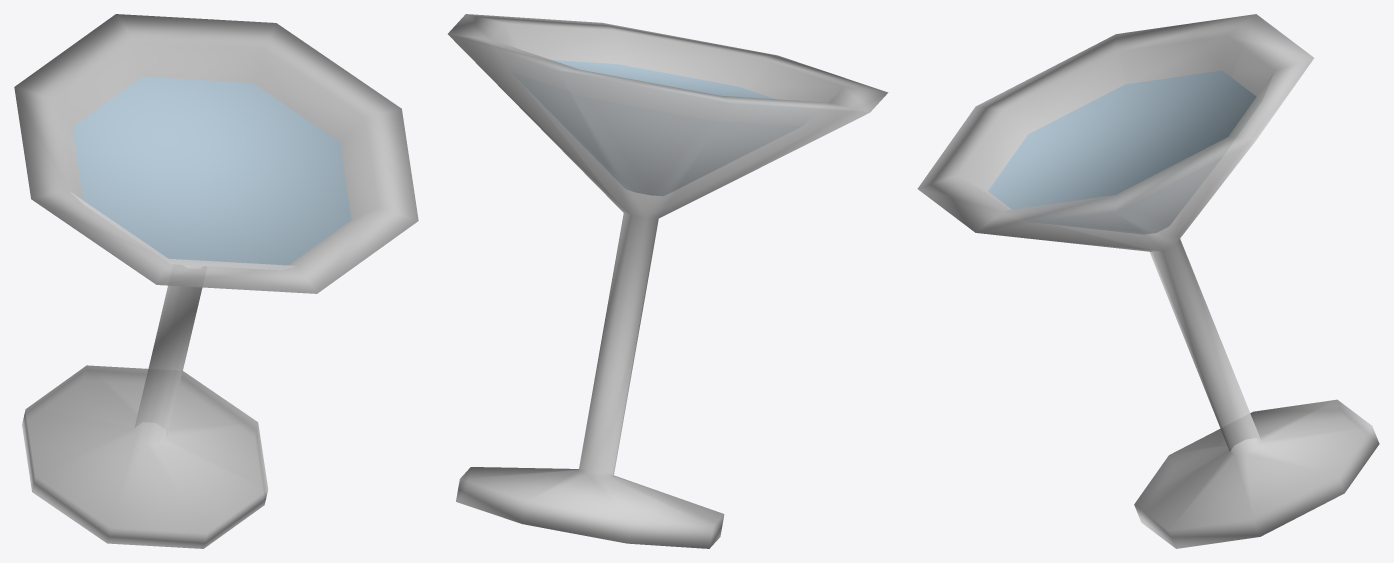
The model's file is drink2.fbx.
The picture shows the model from 3 angles, left to right: view 1: azimuth 30°, elevation 25°; view 2: azimuth 150°, elevation 25°; view 3: azimuth 270°, elevation 25°; orthographic projection. The views are drawn at different scales.
Parts seen in each view (by area): view 1: Cylinder; view 2: Cylinder; view 3: Cylinder.
Part boxes in pixels (box(x1,y1,x2,y2)): Cylinder: box(14, 14, 418, 548); Cylinder: box(448, 14, 888, 548); Cylinder: box(917, 14, 1379, 548).
Size of the model in its own units: 1 by 1.21 by 1.09.
